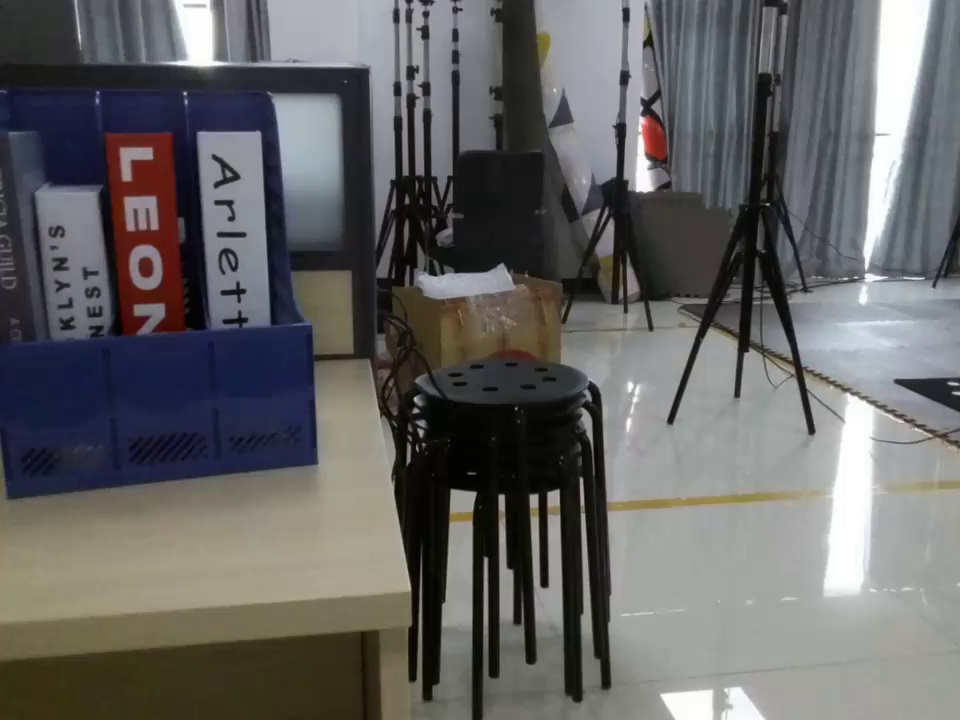files: (1, 88, 319, 500)
